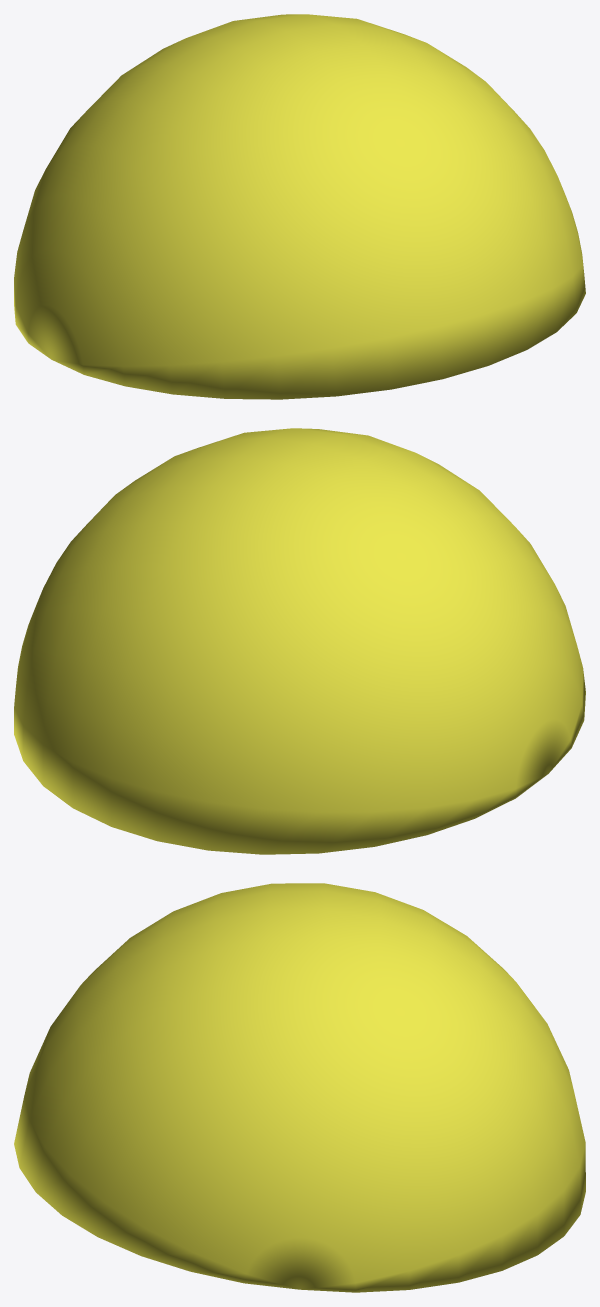
File: Eyelidmidclose.fbx
3 views of the same model, one above another, from view 1: azimuth 30°, elevation 25°; view 2: azimuth 150°, elevation 25°; view 3: azimuth 270°, elevation 25° (orthographic).
Visible parts, largest first — view 1: Eyelid; view 2: Eyelid; view 3: Eyelid.
Part boxes in pixels (bbox=[...]): Eyelid: bbox=[14, 14, 585, 399]; Eyelid: bbox=[14, 428, 585, 854]; Eyelid: bbox=[14, 883, 585, 1292].
Size of the model in its own units: 212 by 115 by 211.
